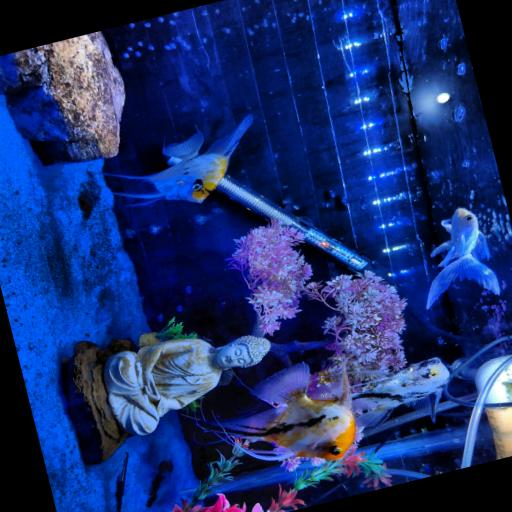Fish: (102, 117, 251, 206), (221, 363, 355, 460), (426, 208, 499, 308), (352, 358, 448, 428)
